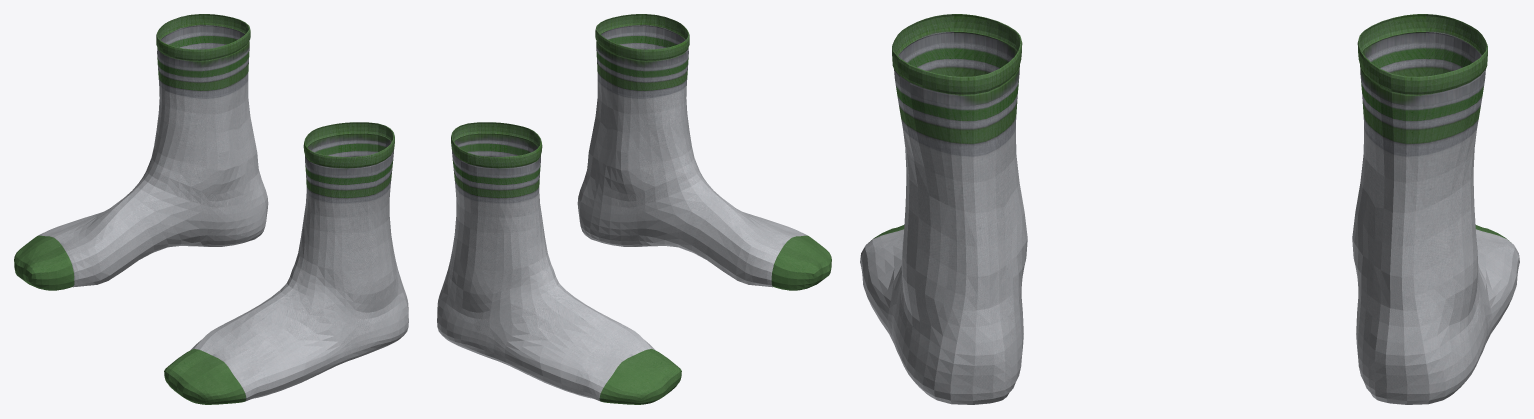
File: 4MXDB4XFSN6Y16MMDQKFBRRQ2.obj
3 views of the same model, side by side, from view 1: azimuth 30°, elevation 25°; view 2: azimuth 150°, elevation 25°; view 3: azimuth 270°, elevation 25° (orthographic). The views are drawn at different scales.
Parts seen in each view (by area): view 1: Object_Socks_07_08_C.jpg; view 2: Object_Socks_07_08_C.jpg; view 3: Object_Socks_07_08_C.jpg.
Part boxes in pixels (x1=…): Object_Socks_07_08_C.jpg: x1=14, y1=14, x2=408, y2=404; Object_Socks_07_08_C.jpg: x1=437, y1=14, x2=831, y2=404; Object_Socks_07_08_C.jpg: x1=860, y1=14, x2=1519, y2=404.
Size of the model in its own units: 1.63 by 1.42 by 2.5.
1 material, 1 textured.
